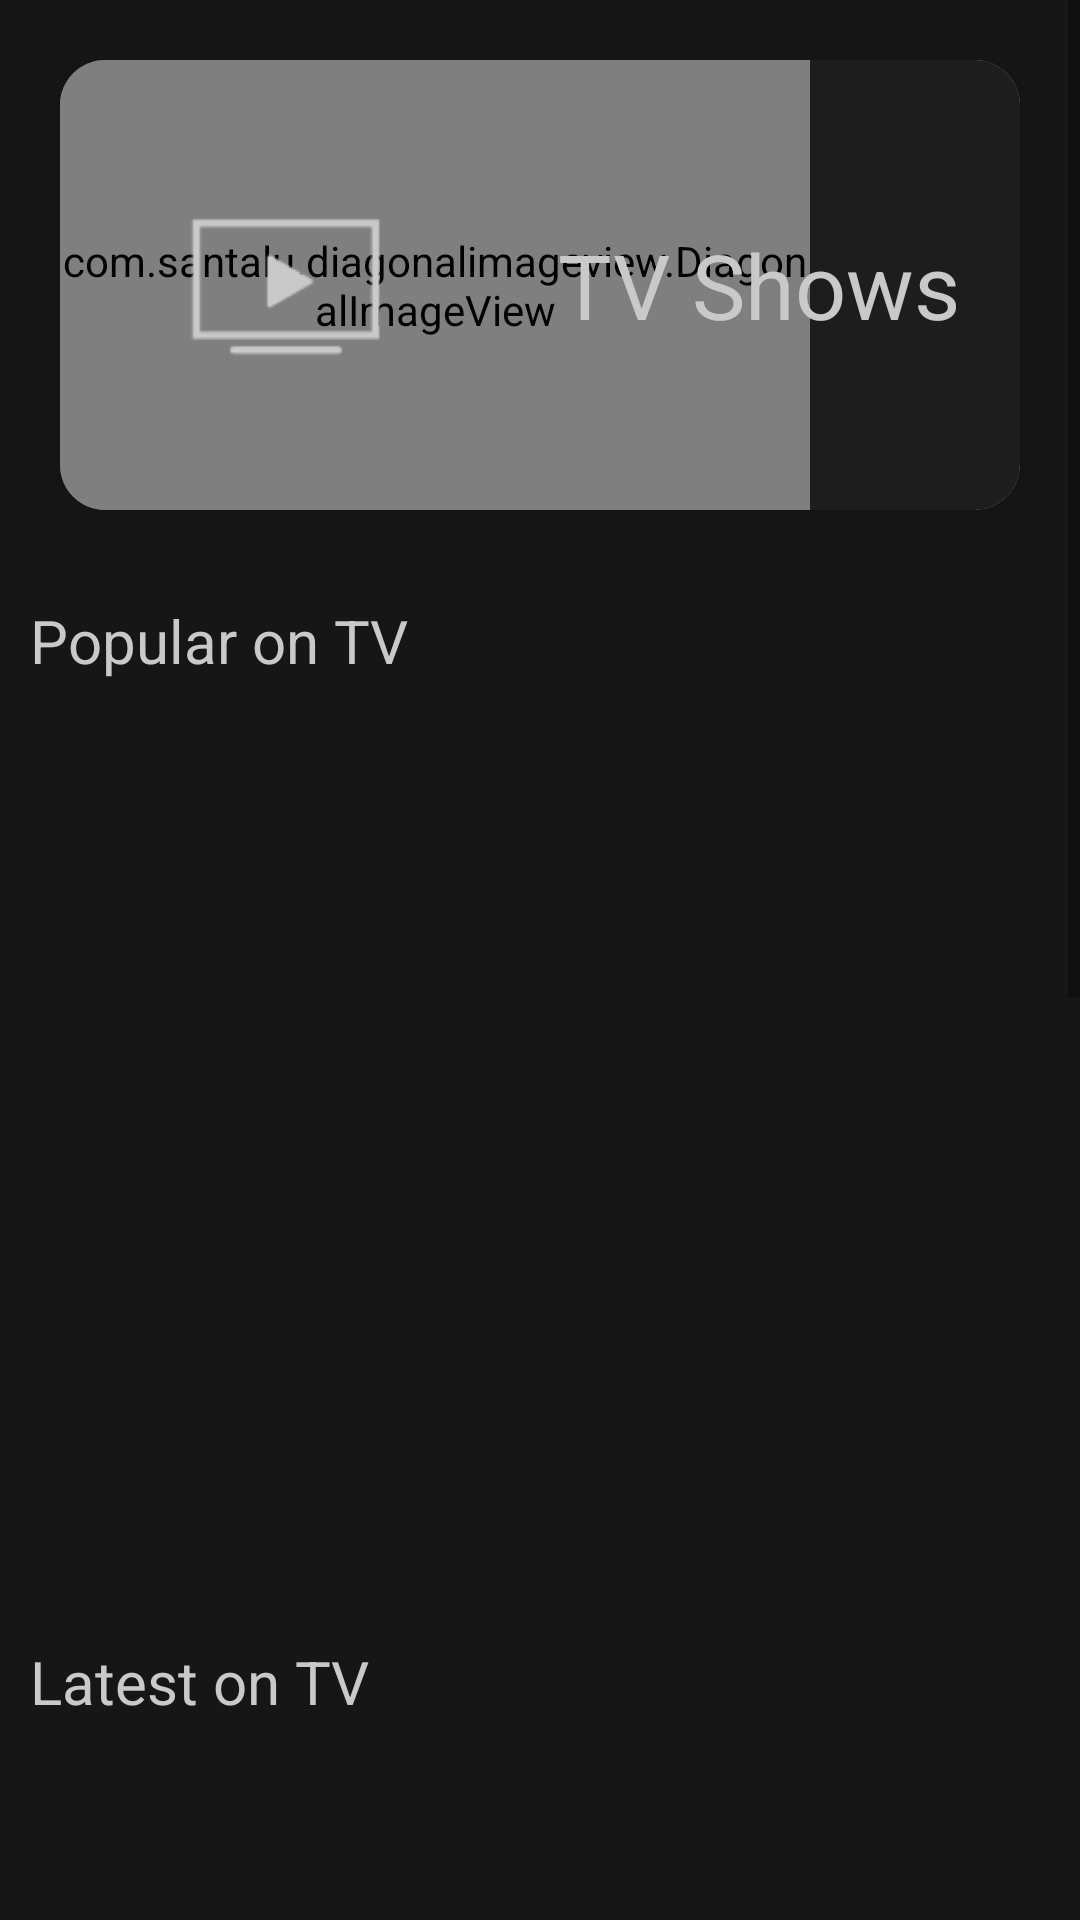

Icon click points for this 1080*1920 phone screenshot, format point (x, y):
tvshow: point (285, 286)
